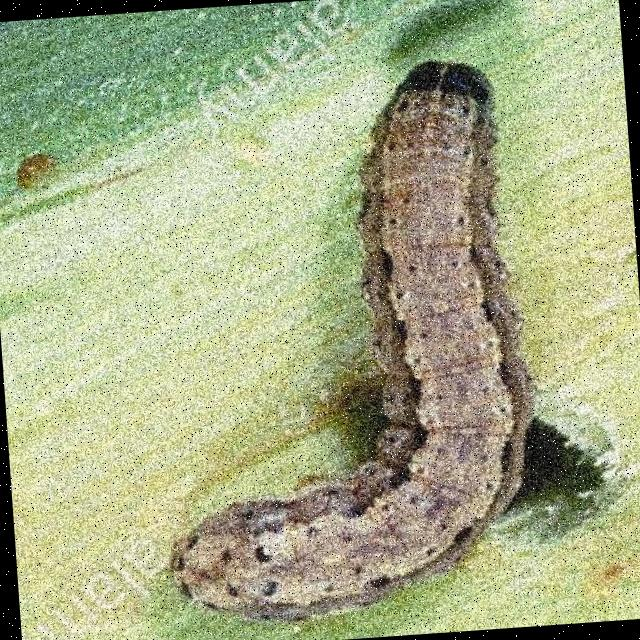worm: (137, 50, 639, 634)
